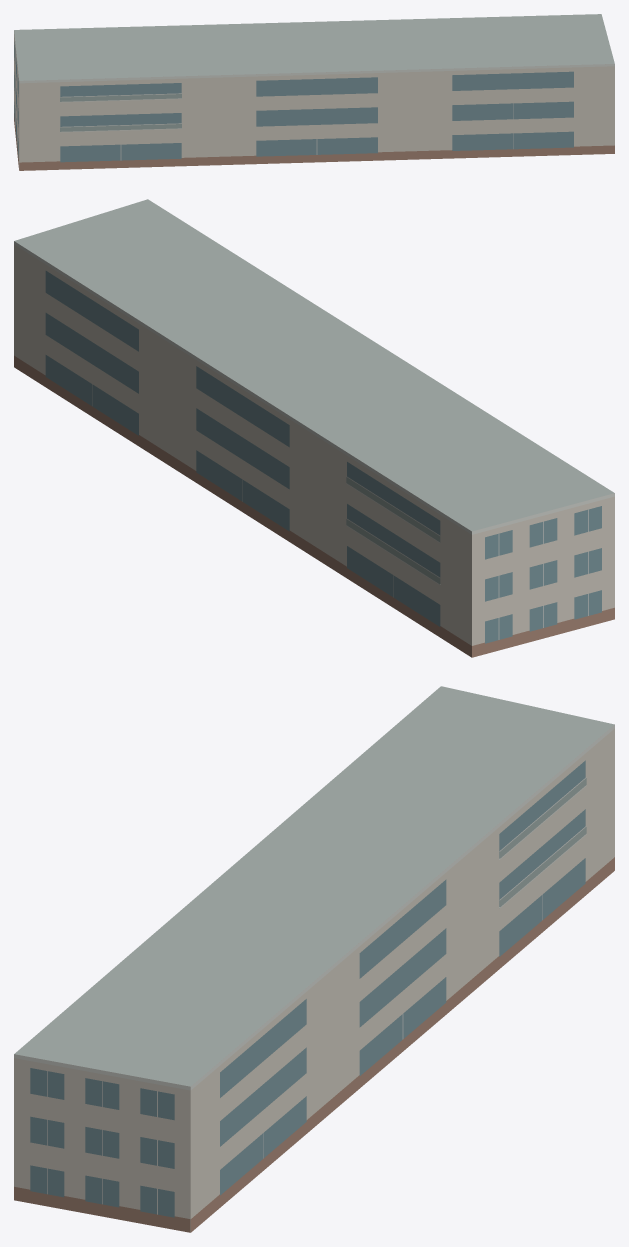
The model's file is survey-upis-32873093.glb.
3 renders of one model, top to bottom at view 1: azimuth 30°, elevation 25°; view 2: azimuth 150°, elevation 25°; view 3: azimuth 270°, elevation 25°, orthographic. The views are drawn at different scales.
Visible parts, largest first — view 1: survey-upis-32873093.tmp; view 2: survey-upis-32873093.tmp; view 3: survey-upis-32873093.tmp.
Boxes of the visible parts, x1=… form: survey-upis-32873093.tmp: x1=14, y1=14, x2=614, y2=170; survey-upis-32873093.tmp: x1=14, y1=199, x2=614, y2=657; survey-upis-32873093.tmp: x1=14, y1=686, x2=614, y2=1232.
Bounding box in the file's own units: 53.79 × 9.15 × 34.1.
